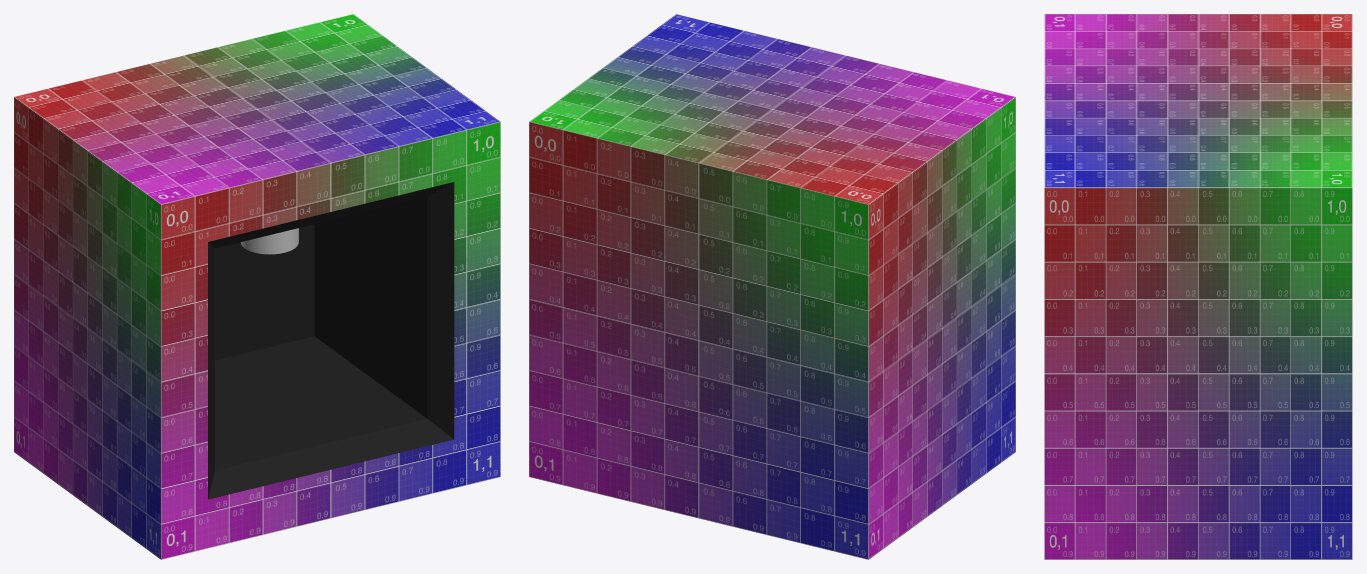
File: oxygenTankFiller.fbx
3 views of the same model, side by side, from view 1: azimuth 30°, elevation 25°; view 2: azimuth 150°, elevation 25°; view 3: azimuth 270°, elevation 25° (orthographic). The views are drawn at different scales.
Visible parts, largest first — view 1: telo_1, hlava; view 2: telo_1; view 3: telo_1.
Part boxes in pixels (x1,y1,x2,y2): telo_1: [14, 14, 500, 559]; hlava: [240, 228, 298, 254]; telo_1: [529, 14, 1015, 559]; telo_1: [1044, 14, 1352, 559].
Bounding box in the file's own units: 80 × 80 × 60.
Materials: 5 (3 with a texture image).
